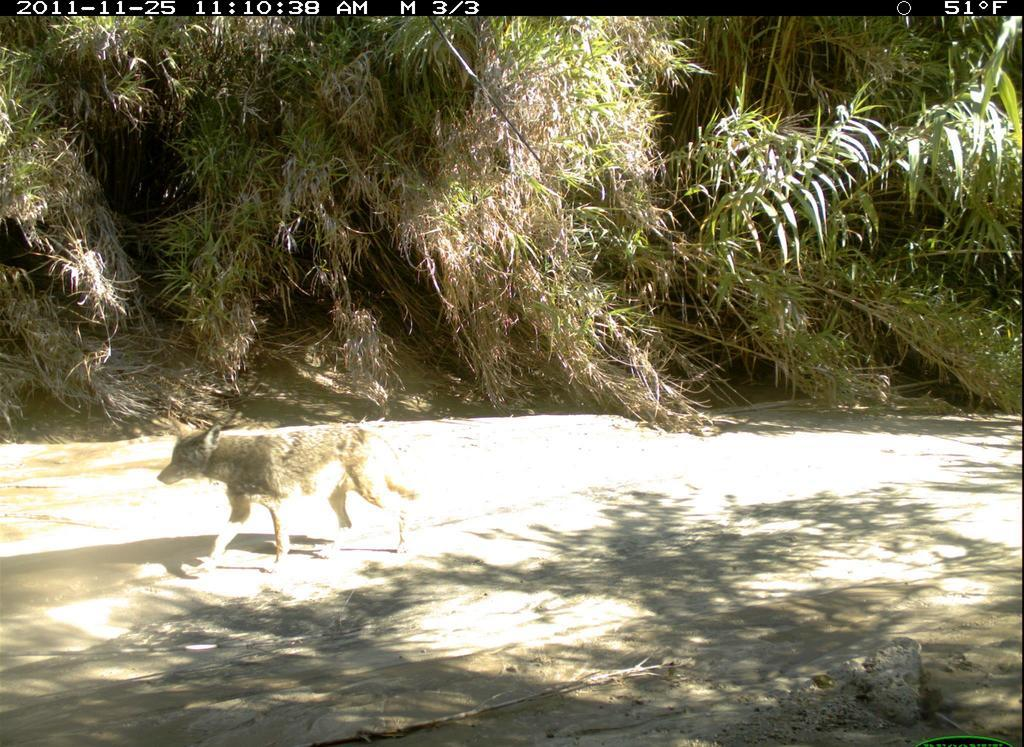coyote: (158, 404, 431, 575)
